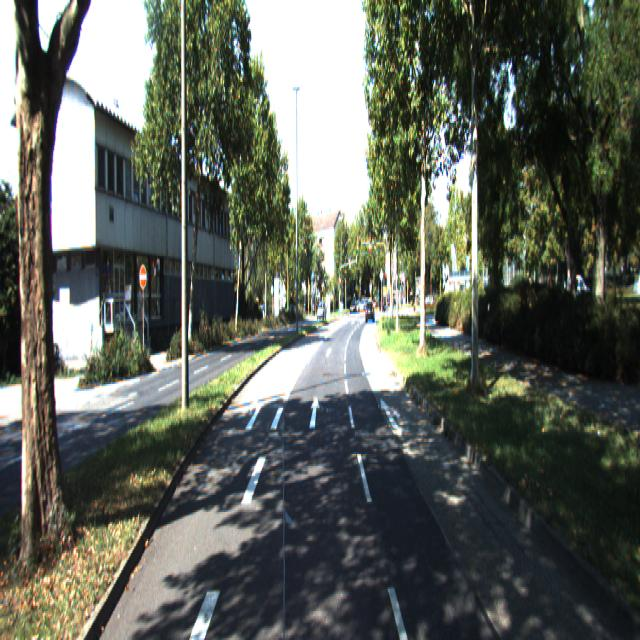Car: (366, 300, 374, 324)
DontCare: (316, 298, 325, 324), (349, 297, 365, 311)
